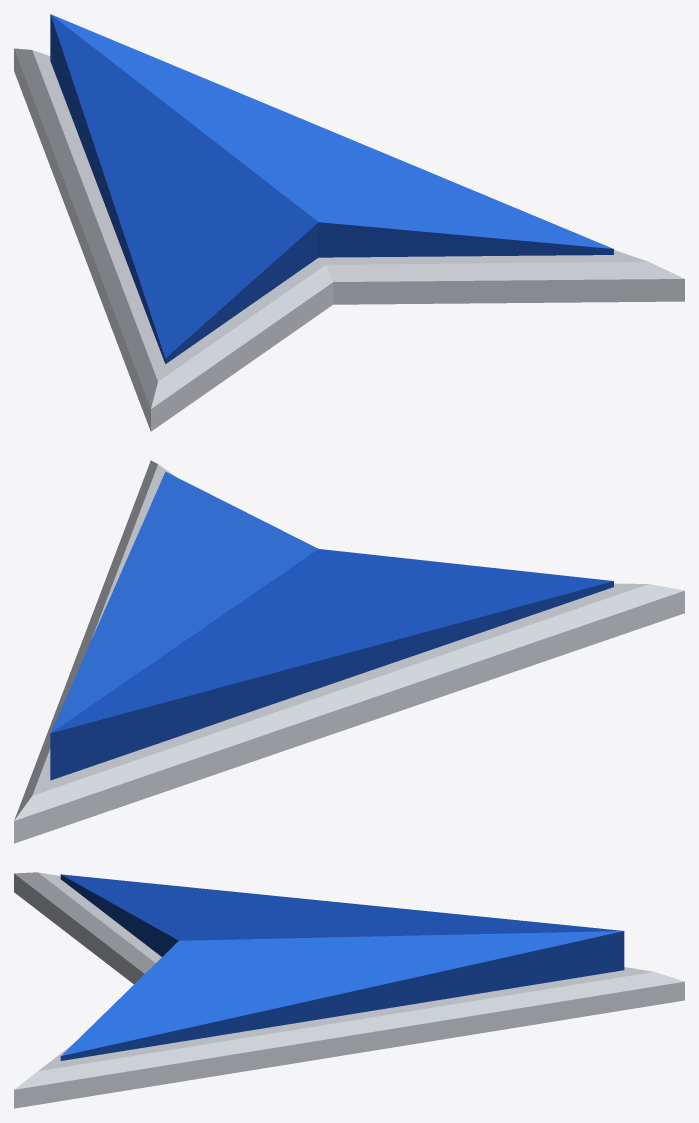
File: arrow.glb
The picture shows the model from 3 angles, top to bottom: view 1: azimuth 30°, elevation 25°; view 2: azimuth 150°, elevation 25°; view 3: azimuth 270°, elevation 25°; orthographic projection. The views are drawn at different scales.
Visible parts, largest first — view 1: white_bevel_rim, raised_arrow_left, raised_arrow_right, arrow_sidewalls; view 2: white_bevel_rim, raised_arrow_left, raised_arrow_right, arrow_sidewalls; view 3: white_bevel_rim, raised_arrow_right, raised_arrow_left, arrow_sidewalls.
Boxes of the visible parts, x1=… form: white_bevel_rim: x1=14, y1=48, x2=684, y2=431; raised_arrow_left: x1=50, y1=14, x2=318, y2=358; raised_arrow_right: x1=51, y1=14, x2=613, y2=248; arrow_sidewalls: x1=50, y1=14, x2=613, y2=364; white_bevel_rim: x1=14, y1=460, x2=684, y2=843; raised_arrow_left: x1=51, y1=549, x2=613, y2=732; raised_arrow_right: x1=51, y1=471, x2=318, y2=732; arrow_sidewalls: x1=50, y1=581, x2=613, y2=780; white_bevel_rim: x1=14, y1=872, x2=684, y2=1108; raised_arrow_right: x1=61, y1=931, x2=623, y2=1055; raised_arrow_left: x1=61, y1=874, x2=622, y2=940; arrow_sidewalls: x1=60, y1=874, x2=624, y2=1060.
Bounding box in the file's own units: 3.05 × 0.457 × 4.
